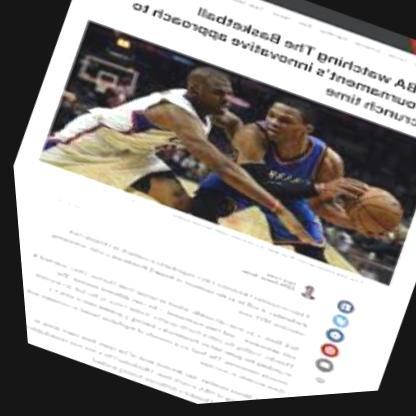basketball: (336, 181, 407, 249)
